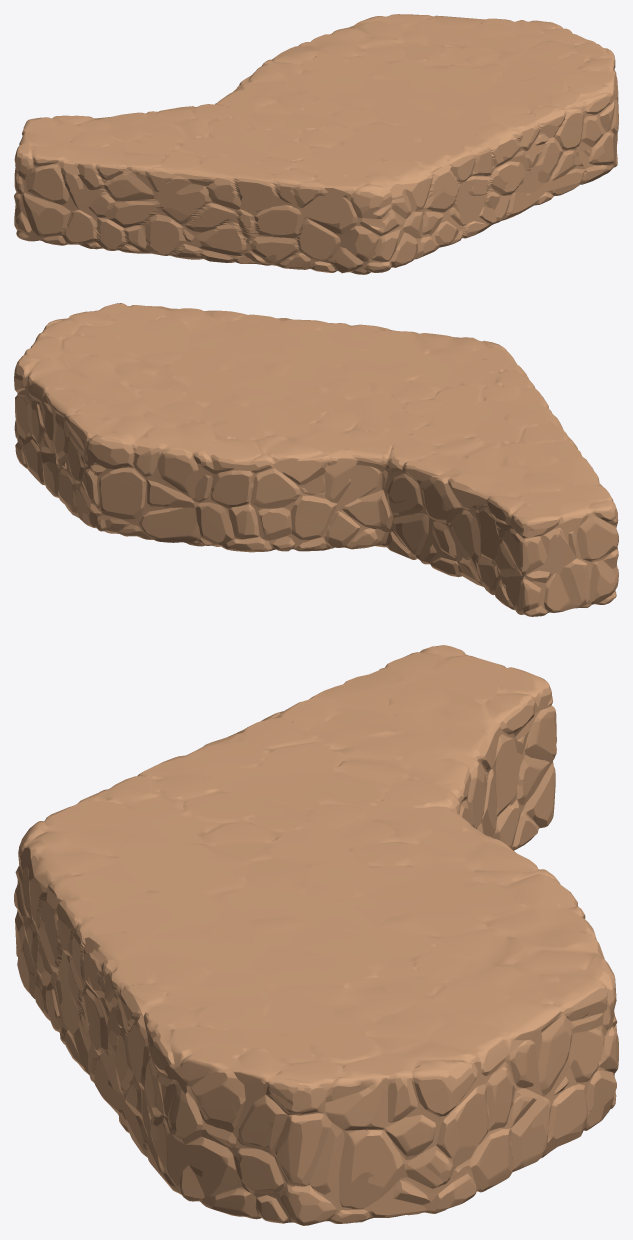
3 views of the same model, one above another, from view 1: azimuth 30°, elevation 25°; view 2: azimuth 150°, elevation 25°; view 3: azimuth 270°, elevation 25° (orthographic). The views are drawn at different scales.
Parts seen in each view (by area): view 1: Mesh_23_LOD0; view 2: Mesh_23_LOD0; view 3: Mesh_23_LOD0.
Boxes of the visible parts, x1,y1,x2,y2 form: Mesh_23_LOD0: (14,14,618,274); Mesh_23_LOD0: (14,303,618,616); Mesh_23_LOD0: (14,645,618,1225).
Size of what is drawn, in the model's own units: 16885 by 2648 by 9688.
